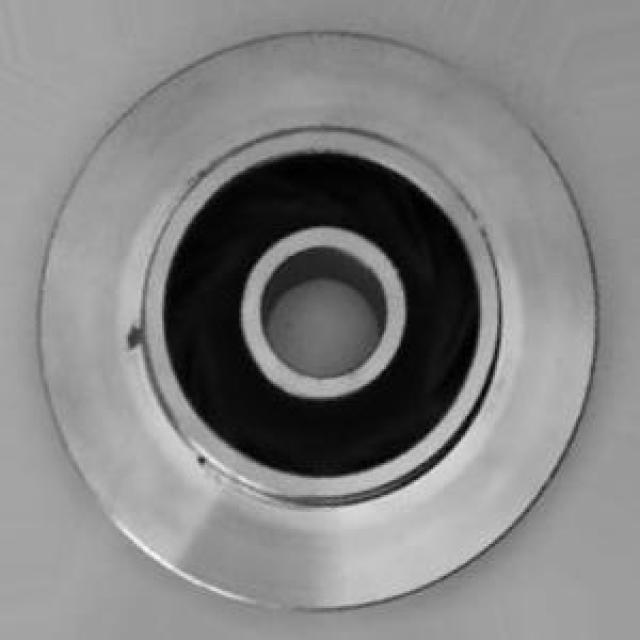Defect: (118, 316, 158, 370)
